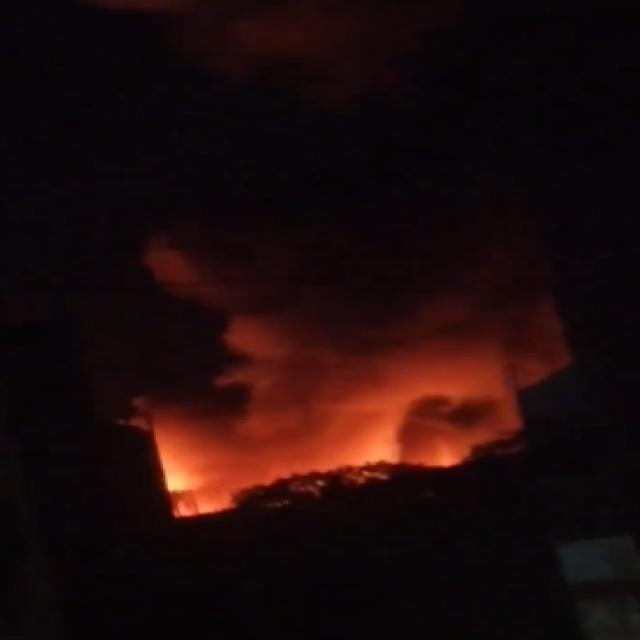Fire: (133, 452, 266, 527)
Smoke: (121, 63, 585, 420)
